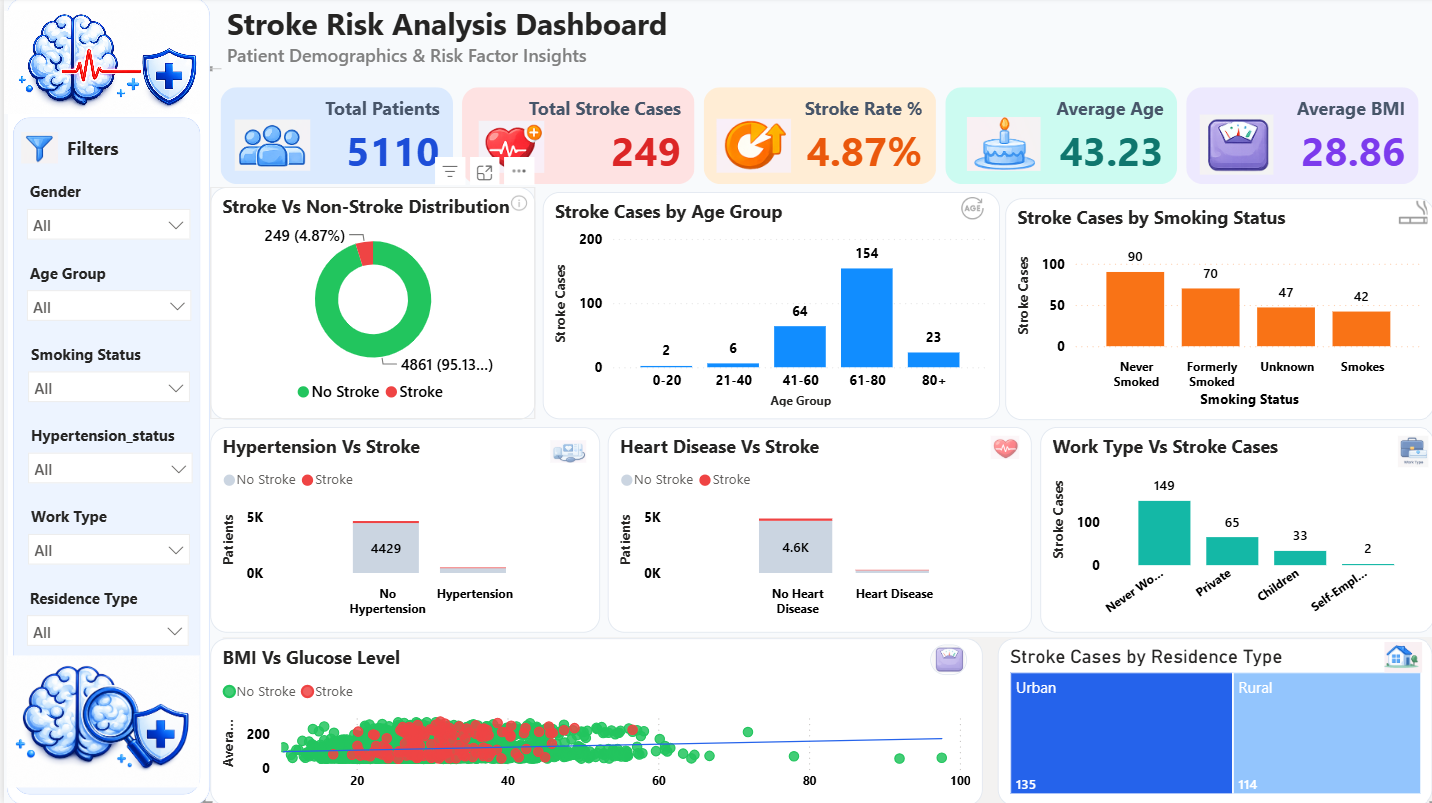

This screenshot's page, from the dashboard's own definition file:
{"tool":"powerbi","page":{"name":"Page 1","canvas":[1280,720],"ordinal":0},"visuals":[{"type":"group","id":"g1","title":"Group 1","box":[175.5,63.8,1104.5,656.2],"z":0},{"type":"cardVisual","fields":{"Data":["Measures (2).Total Patients","Measures (2).Total Stroke Cases","Measures (2).Stroke Rate %","Measures (2).Average Age","Measures (2).Average BMI"]},"box":[175.5,63.8,1104.3,120.2],"z":0,"group":"g2"},{"type":"donutChart","title":"Stroke Vs Non-Stroke Distribution","fields":{"Category":["cleaned_stroke_dataset.Stroke Status"],"Y":["Measures (2).Total Patients"]},"box":[184,169.3,289.6,207.4],"z":0,"group":"g3"},{"type":"clusteredColumnChart","fields":{"Category":["cleaned_stroke_dataset.Age Group"],"Y":["Measures (2).Total Stroke Cases"]},"box":[479.8,174,407.4,202.5],"z":0,"group":"g4"},{"type":"clusteredColumnChart","fields":{"Category":["cleaned_stroke_dataset.Smoking Status"],"Y":["Measures (2).Total Stroke Cases"]},"box":[892,179.1,382.8,197.5],"z":0,"group":"g5"},{"type":"columnChart","title":"Work Type Vs Stroke Cases","fields":{"Category":["cleaned_stroke_dataset.Work Type"],"Y":["Measures (2).Total Stroke Cases"]},"box":[922.7,382.8,352.1,182.8],"z":0,"group":"g8"},{"type":"group","id":"g2","title":"Group 2","box":[175.5,63.8,1104.3,120.2],"z":7,"group":"g1"},{"type":"shape","box":[2.6,0,181.5,720.2],"z":1000},{"type":"image","box":[195.8,109.4,85.9,45.4],"z":1000,"group":"g2"},{"type":"image","box":[447.8,175.7,22.3,15.6],"z":1000,"group":"g3"},{"type":"image","box":[1239.4,177.9,32.8,27],"z":1000,"group":"g5"},{"type":"image","box":[840.3,178.9,44.2,20.2],"z":1000,"group":"g4"},{"type":"image","box":[1239.3,390.2,33.1,28.2],"z":1000,"group":"g8"},{"type":"textbox","box":[193.9,0,1085.9,72.4],"z":2000},{"type":"image","box":[416.1,111,71,46.2],"z":2000,"group":"g2"},{"type":"shape","box":[7.7,106.7,167.3,603.7],"z":3000},{"type":"image","box":[634.2,106.7,66.1,51.5],"z":3000,"group":"g2"},{"type":"image","box":[0,12.3,175,92],"z":4000},{"type":"image","box":[852.3,106.7,74.8,48.3],"z":4000,"group":"g2"},{"type":"image","box":[1060.4,104.6,73.5,53.7],"z":5000,"group":"g2"},{"type":"image","box":[2.5,580.4,171.8,130.1],"z":5000},{"type":"group","id":"g3","title":"Group 4","box":[184,169.3,289.6,207.4],"z":6000},{"type":"columnChart","title":"Hypertension Vs Stroke ","fields":{"Category":["cleaned_stroke_dataset.Hypertension_status"],"Series":["cleaned_stroke_dataset.Stroke Status"],"Y":["Measures (2).Total Patients"]},"box":[184.1,382.8,347.2,182.8],"z":6001,"group":"g6"},{"type":"columnChart","title":"Heart Disease Vs Stroke","fields":{"Series":["cleaned_stroke_dataset.Stroke Status"],"Y":["Measures (2).Total Patients"],"Category":["cleaned_stroke_dataset.Heart Disease_status"]},"box":[537.4,382.8,377.9,182.8],"z":6002,"group":"g7"},{"type":"image","box":[873.6,390.2,35.6,20.9],"z":6007,"group":"g7"},{"type":"image","box":[487.2,390.2,31.9,28.2],"z":6008,"group":"g6"},{"type":"group","id":"g4","title":"Group 5","box":[479.8,174,407.4,202.5],"z":7000},{"type":"group","id":"g5","title":"Group 6","box":[892,177.9,382.8,198.8],"z":8000},{"type":"image","box":[14.7,120.2,34.4,28.2],"z":9000},{"type":"group","id":"g6","title":"Group 7","box":[184.1,382.8,347.2,182.8],"z":10000},{"type":"group","id":"g7","title":"Group 8","box":[537.4,382.8,377.9,182.8],"z":11000},{"type":"group","id":"g8","title":"Group 9","box":[922.7,382.8,352.1,182.8],"z":12000},{"type":"scatterChart","title":"BMI Vs Glucose Level","fields":{"X":["cleaned_stroke_dataset.bmi"],"Y":["cleaned_stroke_dataset.avg_glucose_level"],"Series":["cleaned_stroke_dataset.Stroke Status"]},"box":[184.1,570.6,688.3,149.7],"z":13000},{"type":"image","box":[824.5,576.7,33.1,27],"z":14000},{"type":"group","id":"g9","title":"Group 10","box":[884.7,570.6,387.7,149.7],"z":15000},{"type":"treemap","fields":{"Group":["cleaned_stroke_dataset.Residence Type"],"Values":["Measures (2).Total Stroke Cases"]},"box":[884.7,570.6,387.7,149.7],"z":15000,"group":"g9"},{"type":"slicer","fields":{"Values":["cleaned_stroke_dataset.Gender_name"]},"box":[9.8,159.5,165.6,66.3],"z":16000},{"type":"image","box":[1224.6,574.3,42.9,27],"z":16000,"group":"g9"},{"type":"textbox","box":[51.5,117.8,108,36.8],"z":17000},{"type":"slicer","fields":{"Values":["cleaned_stroke_dataset.Hypertension_status"]},"box":[10.8,376.5,166.9,66.3],"z":18000},{"type":"slicer","fields":{"Values":["cleaned_stroke_dataset.Work Type"]},"box":[10.8,449,164.4,66.3],"z":19000},{"type":"image","box":[194,570,1086,150],"z":19002,"group":"g1"},{"type":"slicer","fields":{"Values":["cleaned_stroke_dataset.Age Group"]},"box":[9.6,231.5,166.9,66.3],"z":20000},{"type":"slicer","fields":{"Values":["cleaned_stroke_dataset.Smoking Status"]},"box":[10.8,304,164.4,66.3],"z":21000},{"type":"slicer","fields":{"Values":["cleaned_stroke_dataset.Residence Type"]},"box":[9.8,521.5,164.4,66.3],"z":22000}]}

Visuals, with their boxes in screenshot pixels (x1, y1, x2, y2), scaled from the page's 1280x720 canvas onto the 1432x803 screenshot:
"Group 1" group: locate(196, 71, 1431, 802)
cardVisual - Measures (2).Total Patients x Measures (2).Total Stroke Cases: locate(196, 71, 1431, 205)
"Stroke Vs Non-Stroke Distribution" donutChart: locate(206, 189, 530, 420)
clusteredColumnChart - cleaned_stroke_dataset.Age Group x Measures (2).Total Stroke Cases: locate(537, 194, 993, 420)
clusteredColumnChart - cleaned_stroke_dataset.Smoking Status x Measures (2).Total Stroke Cases: locate(998, 200, 1426, 420)
"Work Type Vs Stroke Cases" columnChart: locate(1032, 427, 1426, 631)
"Group 2" group: locate(196, 71, 1431, 205)
shape: locate(3, 0, 206, 802)
image: locate(219, 122, 315, 173)
image: locate(501, 196, 526, 213)
image: locate(1387, 198, 1423, 229)
image: locate(940, 200, 990, 222)
image: locate(1386, 435, 1423, 467)
textbox: locate(217, 0, 1431, 81)
image: locate(466, 124, 545, 175)
shape: locate(9, 119, 196, 792)
image: locate(710, 119, 783, 176)
image: locate(0, 14, 196, 116)
image: locate(954, 119, 1037, 173)
image: locate(1186, 117, 1269, 177)
image: locate(3, 647, 195, 792)
"Group 4" group: locate(206, 189, 530, 420)
"Hypertension Vs Stroke " columnChart: locate(206, 427, 594, 631)
"Heart Disease Vs Stroke" columnChart: locate(601, 427, 1024, 631)
image: locate(977, 435, 1017, 458)
image: locate(545, 435, 581, 467)
"Group 5" group: locate(537, 194, 993, 420)
"Group 6" group: locate(998, 198, 1426, 420)
image: locate(16, 134, 55, 166)
"Group 7" group: locate(206, 427, 594, 631)
"Group 8" group: locate(601, 427, 1024, 631)
"Group 9" group: locate(1032, 427, 1426, 631)
"BMI Vs Glucose Level" scatterChart: locate(206, 636, 976, 802)
image: locate(922, 643, 959, 673)
"Group 10" group: locate(990, 636, 1423, 802)
treemap - cleaned_stroke_dataset.Residence Type x Measures (2).Total Stroke Cases: locate(990, 636, 1423, 802)
slicer - cleaned_stroke_dataset.Gender_name: locate(11, 178, 196, 252)
image: locate(1370, 641, 1418, 671)
textbox: locate(58, 131, 178, 172)
slicer - cleaned_stroke_dataset.Hypertension_status: locate(12, 420, 199, 494)
slicer - cleaned_stroke_dataset.Work Type: locate(12, 501, 196, 575)
image: locate(217, 636, 1431, 802)
slicer - cleaned_stroke_dataset.Age Group: locate(11, 258, 197, 332)
slicer - cleaned_stroke_dataset.Smoking Status: locate(12, 339, 196, 413)
slicer - cleaned_stroke_dataset.Residence Type: locate(11, 582, 195, 656)
